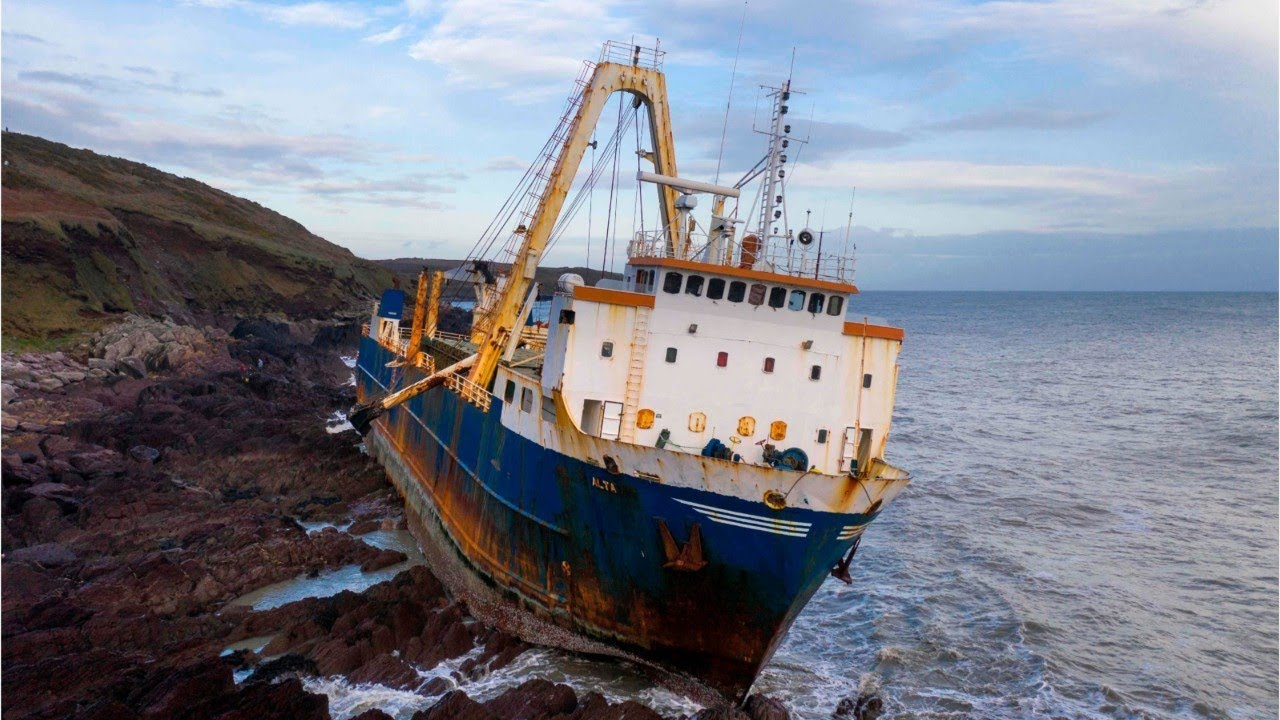rust: (640, 570, 758, 682), (391, 421, 480, 555), (855, 334, 896, 398), (594, 303, 635, 339)
